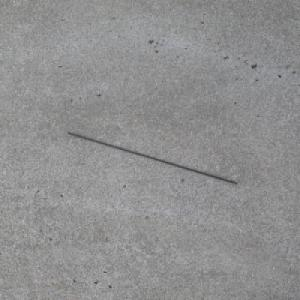LuggagePart: (65, 131, 240, 185)
